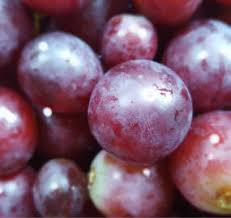Red Grapes: (87, 57, 192, 160)
